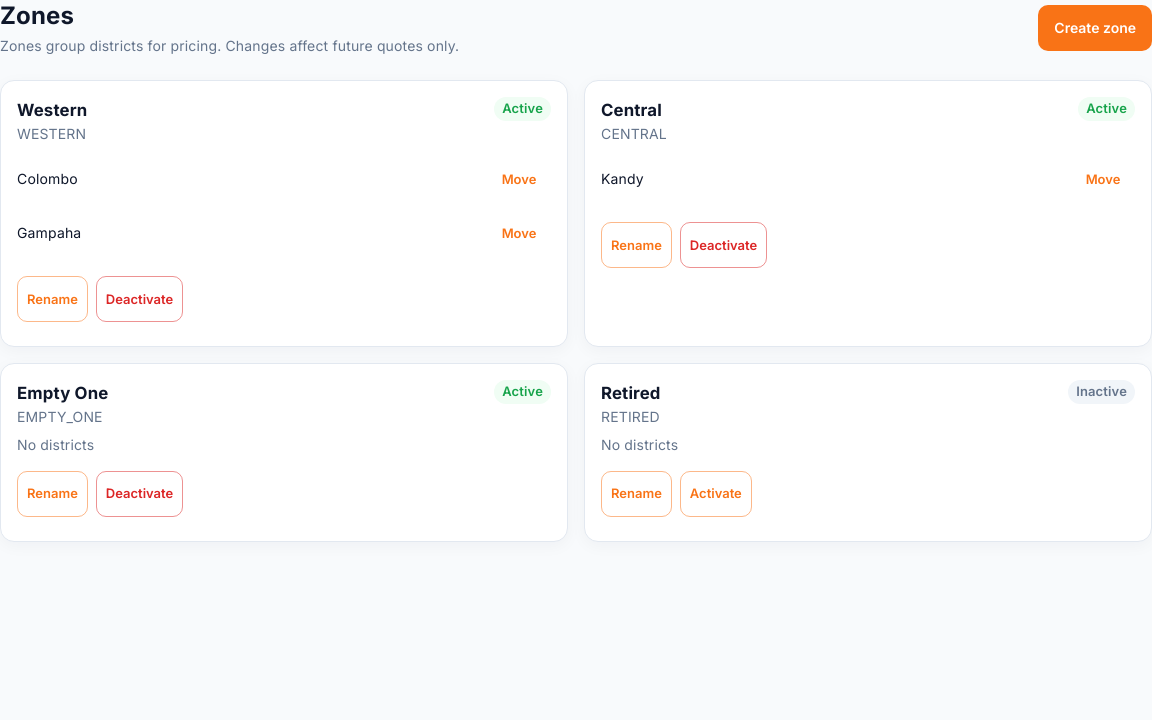
Test: TST-040 Member #5 admin zones page (FR-PRC-006) › move district: offers only other active zones and sends the district code and zone id
Click the button with aria-label "Move Kandy" at x=1103, y=179, box [1071,156,1135,202]
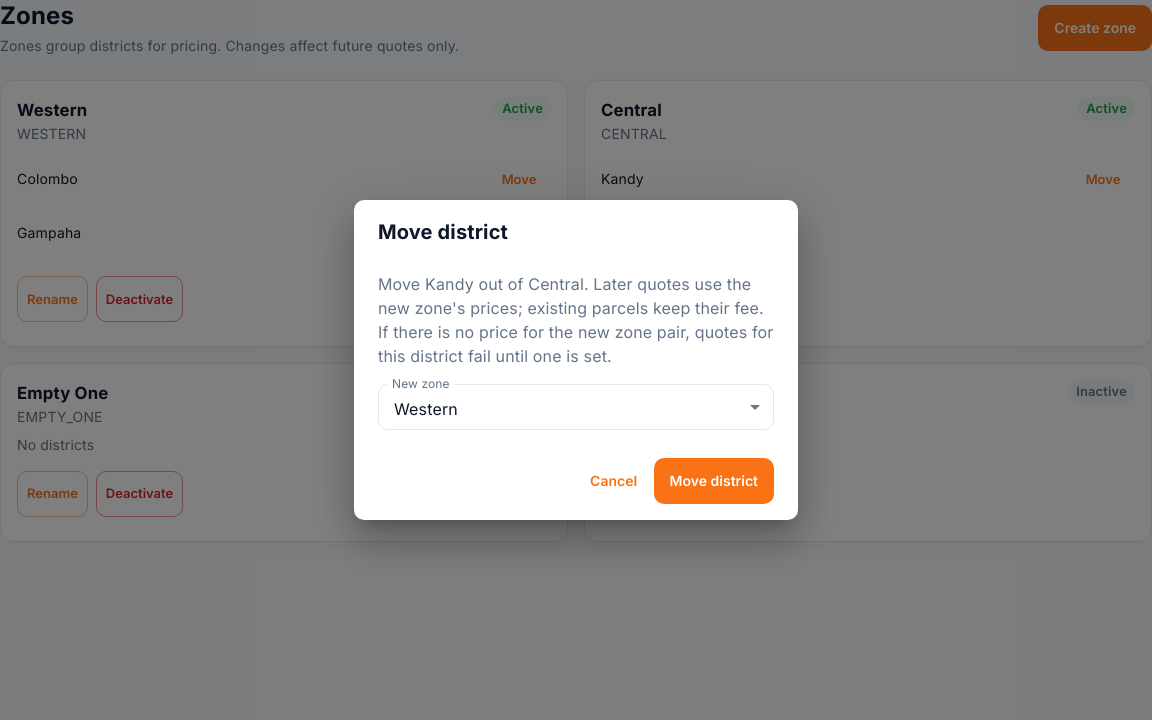
Select "Empty One" in the dropdown labelled "New zone" at x=576, y=407, box [378,384,774,430]
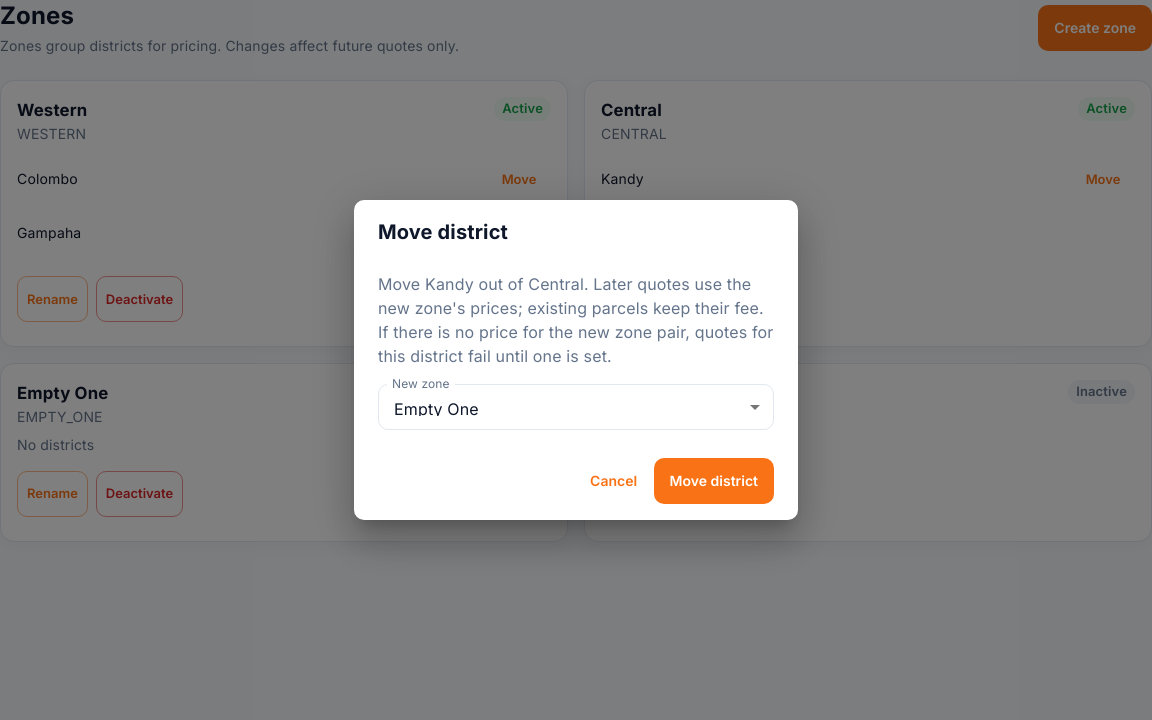
Click the button "Move district" at x=714, y=481, box [654,458,774,504]
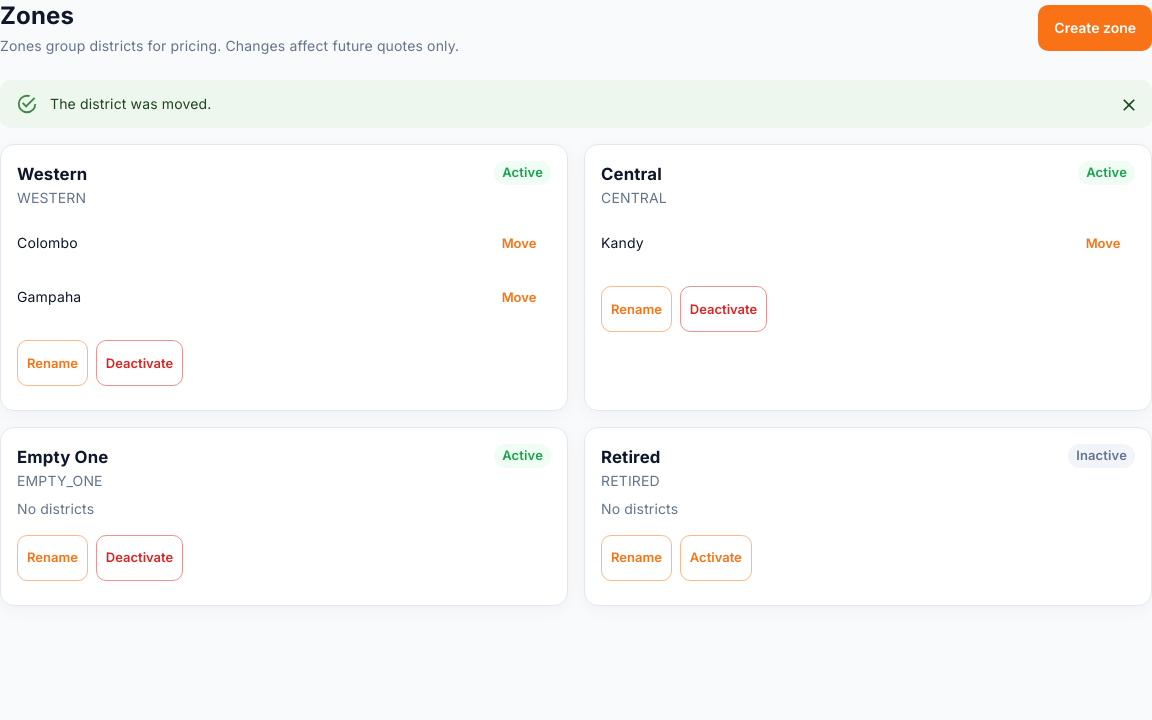
Expected: the text "The district was moved." is shown, [50,95,212,112]
